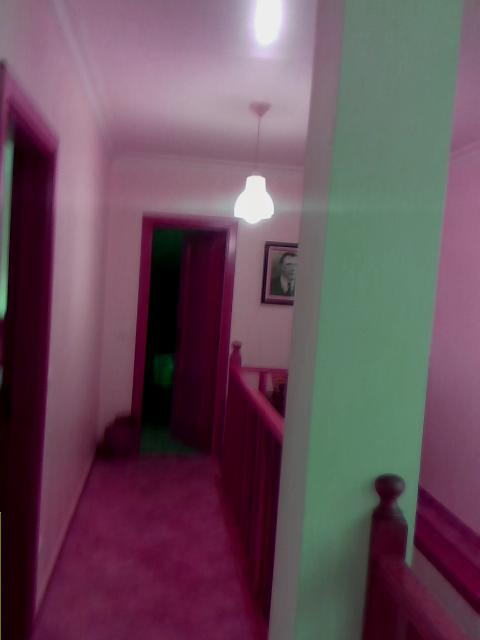semi_door: (129, 209, 238, 457)
